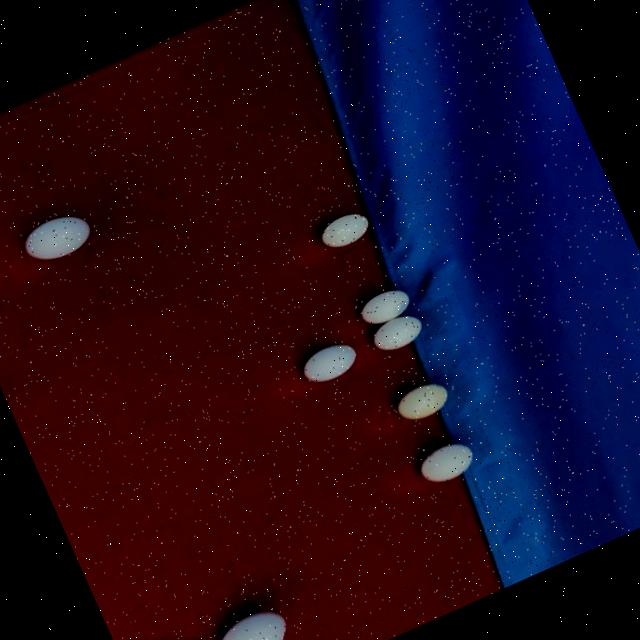ping-pong-ball: (14, 203, 98, 271), (293, 332, 364, 390), (386, 372, 456, 428), (412, 434, 480, 489), (311, 203, 373, 254), (366, 307, 428, 358), (352, 280, 414, 330)
